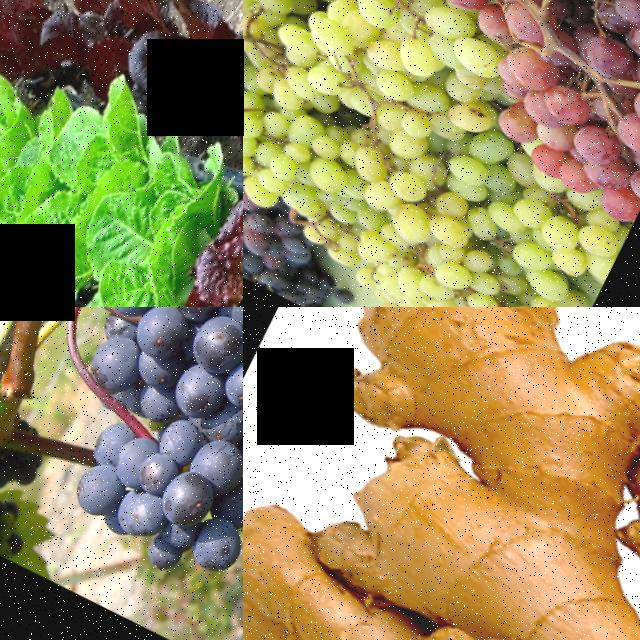ginger: (243, 307, 640, 640)
grapes: (0, 307, 243, 603), (243, 77, 462, 287), (445, 0, 640, 229), (252, 0, 509, 166), (406, 159, 626, 307)
lettuce: (0, 93, 165, 303), (70, 135, 243, 307), (0, 69, 67, 267)
